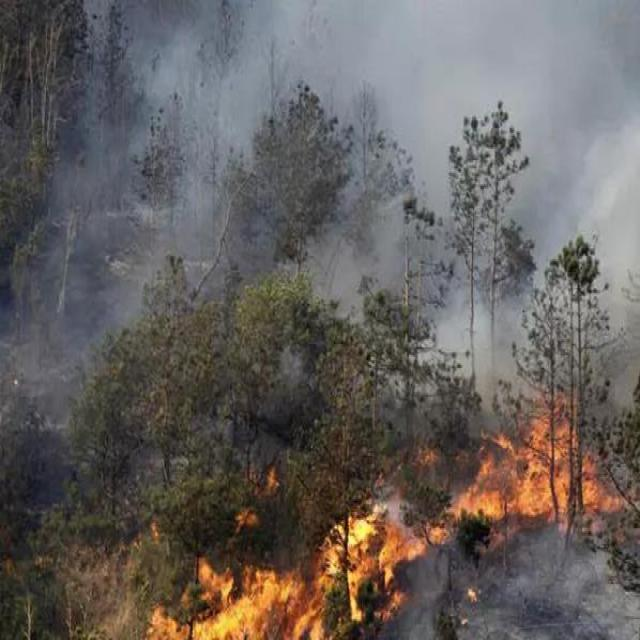Fire: (145, 390, 621, 640)
